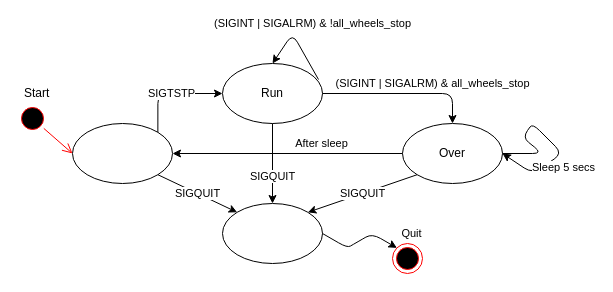
Image size: 613x292. Some labels were removed from this diagram. Here are the shapes that lost their labels. From the top down, the centre of each, then its label:
At point 122,153: "Coin".
At point 272,233: "Stop".
